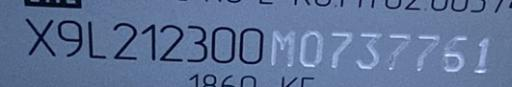letter: (24, 17, 56, 58), (267, 28, 297, 69), (354, 30, 382, 73), (439, 34, 469, 73), (111, 20, 139, 61), (299, 27, 325, 70), (328, 30, 354, 73), (56, 18, 82, 59), (386, 32, 412, 73), (158, 23, 184, 62), (210, 25, 236, 64), (238, 26, 264, 65), (415, 33, 441, 72), (184, 23, 208, 64), (86, 18, 108, 61), (472, 35, 492, 74), (139, 21, 157, 62)
